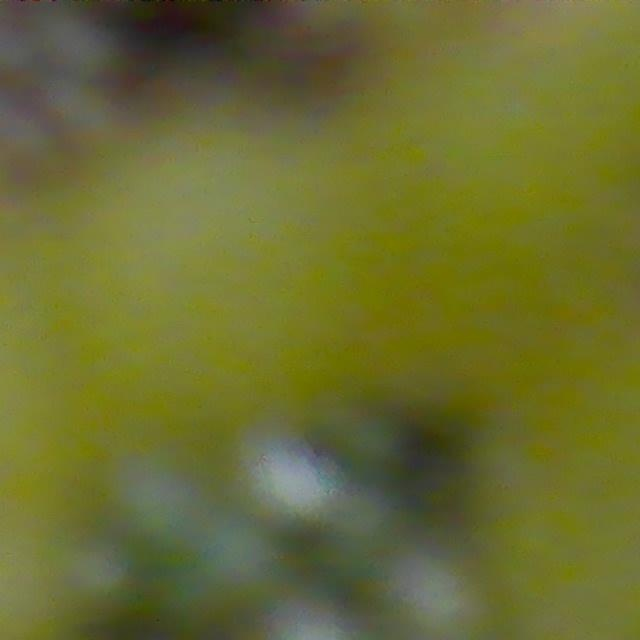SeaGrape: (193, 513, 285, 607)
